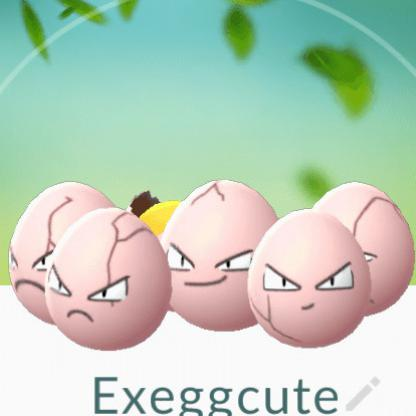Exeggcute: (1, 159, 416, 362)
